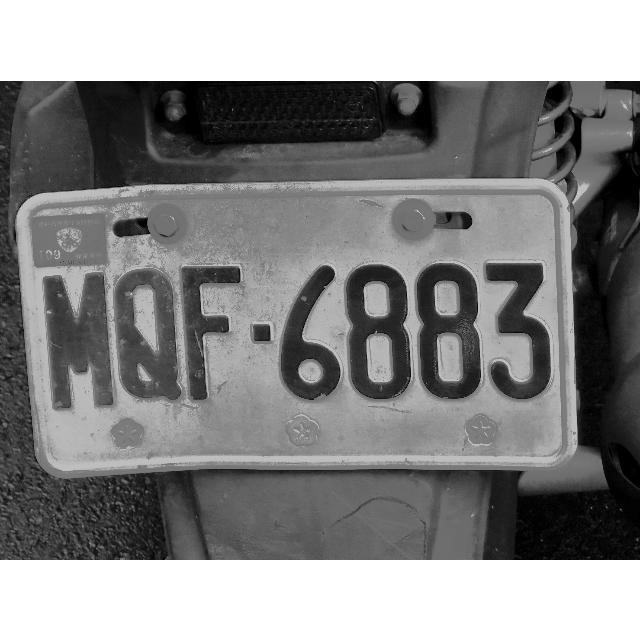-: (250, 318, 274, 349)
3: (483, 258, 555, 402)
6: (278, 262, 342, 404)
8: (344, 262, 416, 403), (414, 261, 482, 404)
F: (182, 264, 244, 406)
M: (39, 270, 115, 412)
Q: (116, 268, 182, 406)
